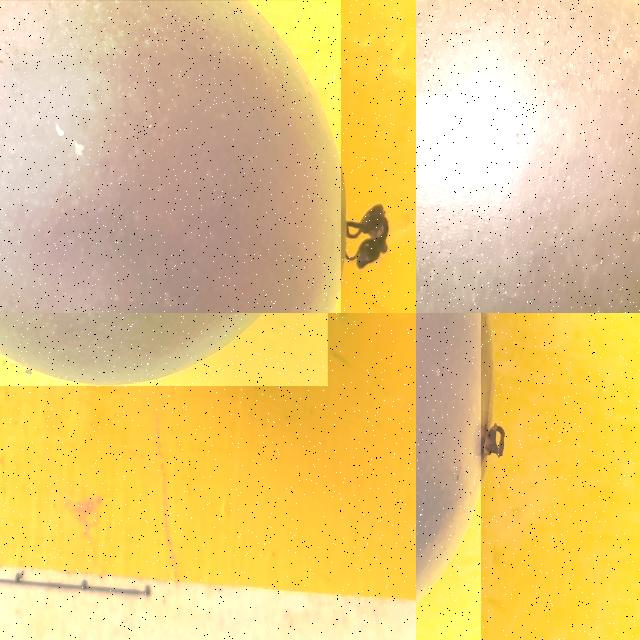Estado-5: (0, 1, 340, 313)
Estado-6: (416, 0, 640, 313)
